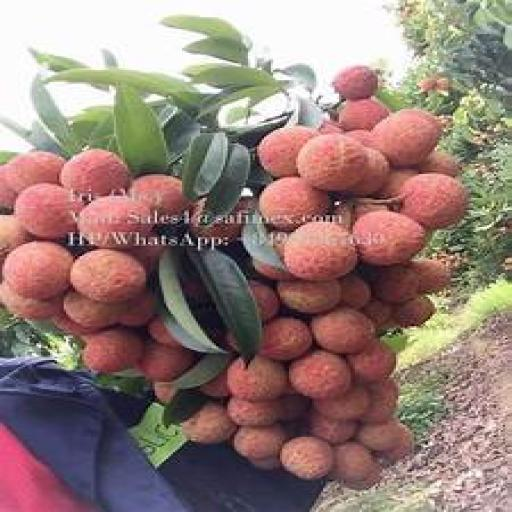lychee: (285, 222, 357, 281), (3, 241, 72, 300), (353, 212, 427, 266), (14, 183, 84, 238), (78, 197, 152, 249), (71, 250, 145, 302), (374, 110, 441, 167), (299, 134, 366, 191), (401, 173, 468, 228), (260, 178, 329, 230), (60, 149, 129, 196), (258, 127, 318, 177), (289, 350, 350, 399), (130, 175, 191, 223), (312, 308, 375, 353), (228, 355, 288, 401), (82, 328, 143, 373), (5, 151, 65, 192), (280, 436, 334, 479), (64, 291, 125, 329), (260, 318, 311, 361), (278, 280, 341, 314), (0, 284, 61, 319), (139, 344, 195, 382), (183, 403, 236, 443), (315, 386, 370, 421), (349, 149, 389, 196), (233, 424, 286, 459), (349, 342, 395, 382), (371, 265, 418, 303), (337, 98, 391, 131), (308, 412, 357, 445), (333, 65, 377, 100), (228, 398, 282, 426), (410, 258, 450, 293), (394, 296, 436, 327), (249, 280, 279, 322), (417, 151, 459, 177), (340, 274, 370, 308)
